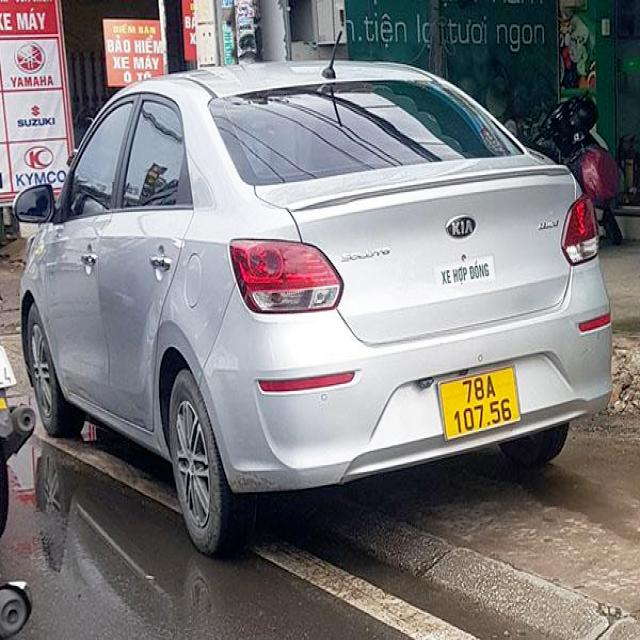license_plate: (441, 366, 523, 441)
